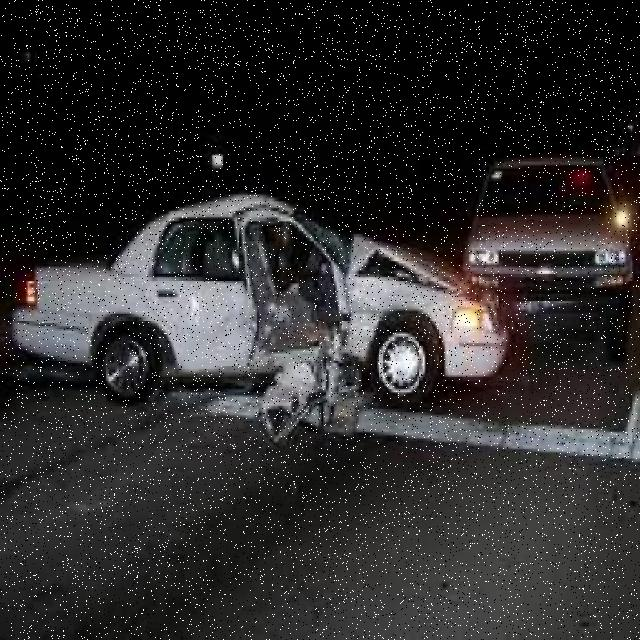damage: (98, 193, 481, 442)
